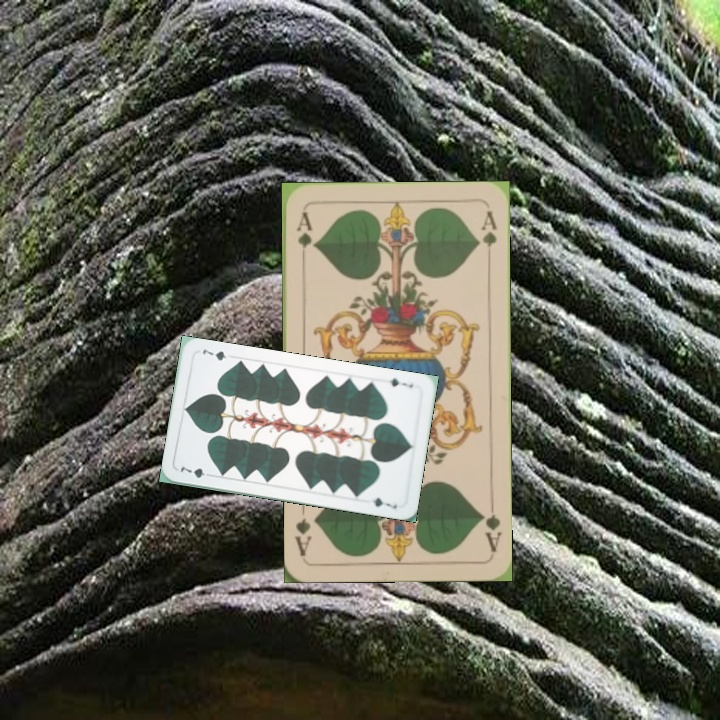G7: (176, 462, 216, 481), (386, 374, 416, 390)
GA: (476, 496, 504, 555), (292, 207, 315, 266)
